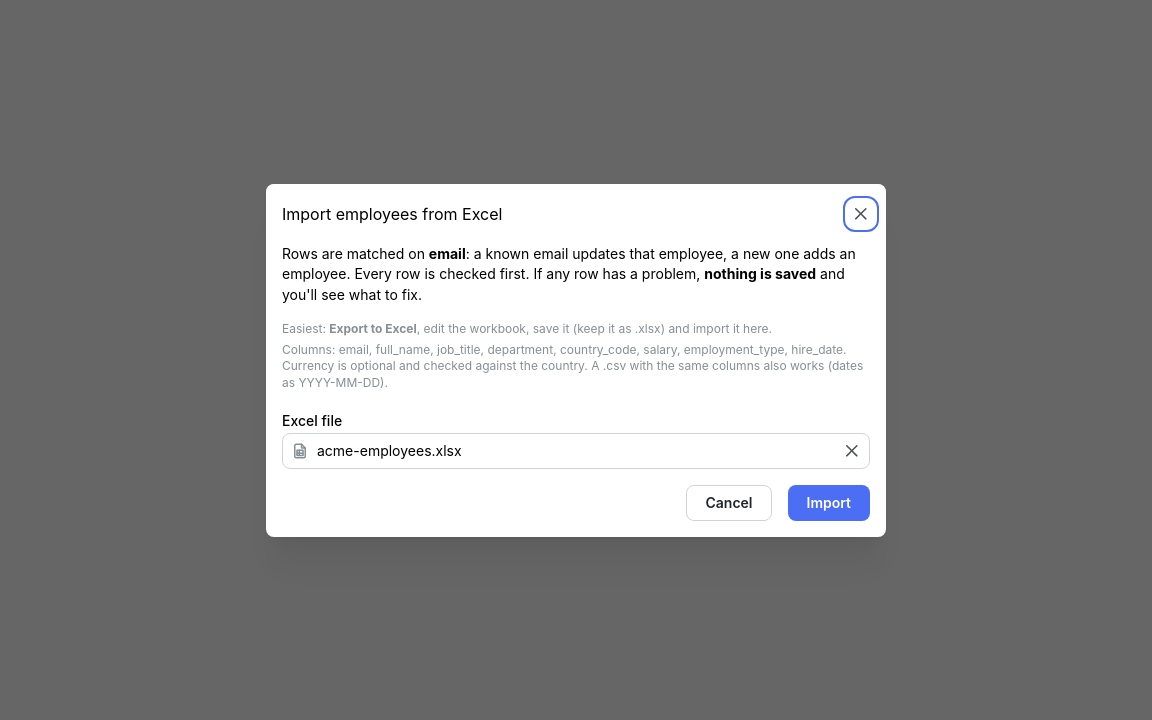
Test: ImportEmployeesModal › shows why a file could not be read
Earlier steps of the test are not shown.
Click the button "Import": [829, 502] box [788,484,870,520]
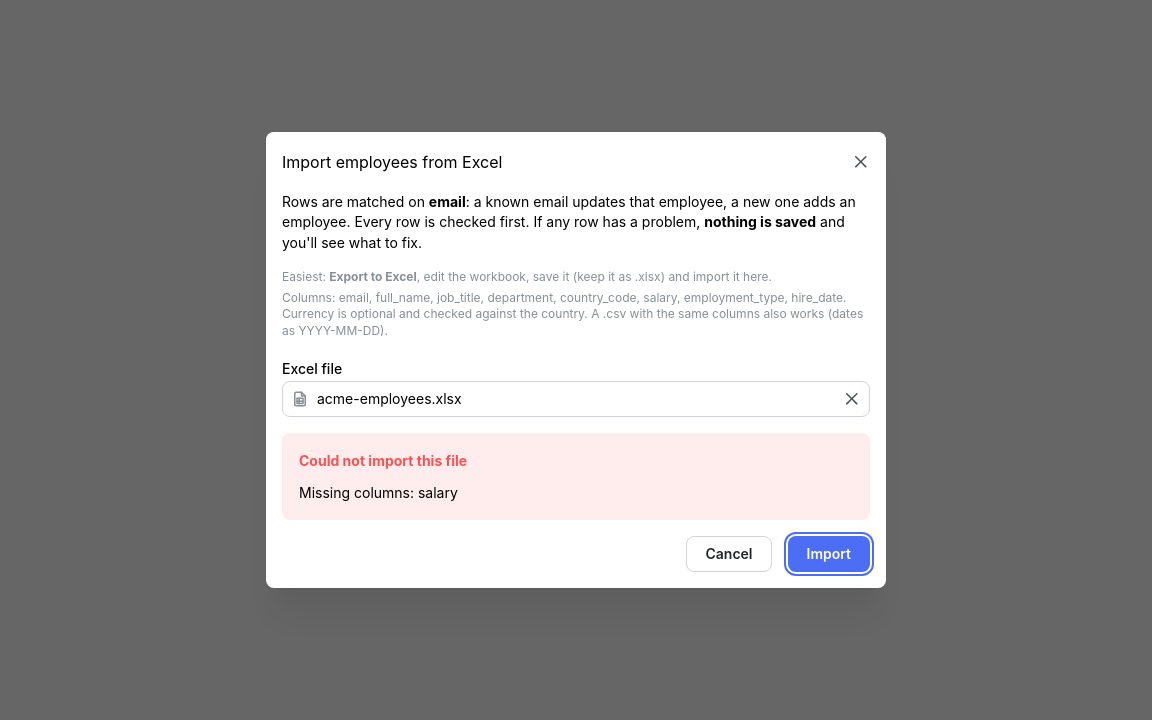
Expected: the text "Missing columns: salary" is shown, [299,483,458,500]
